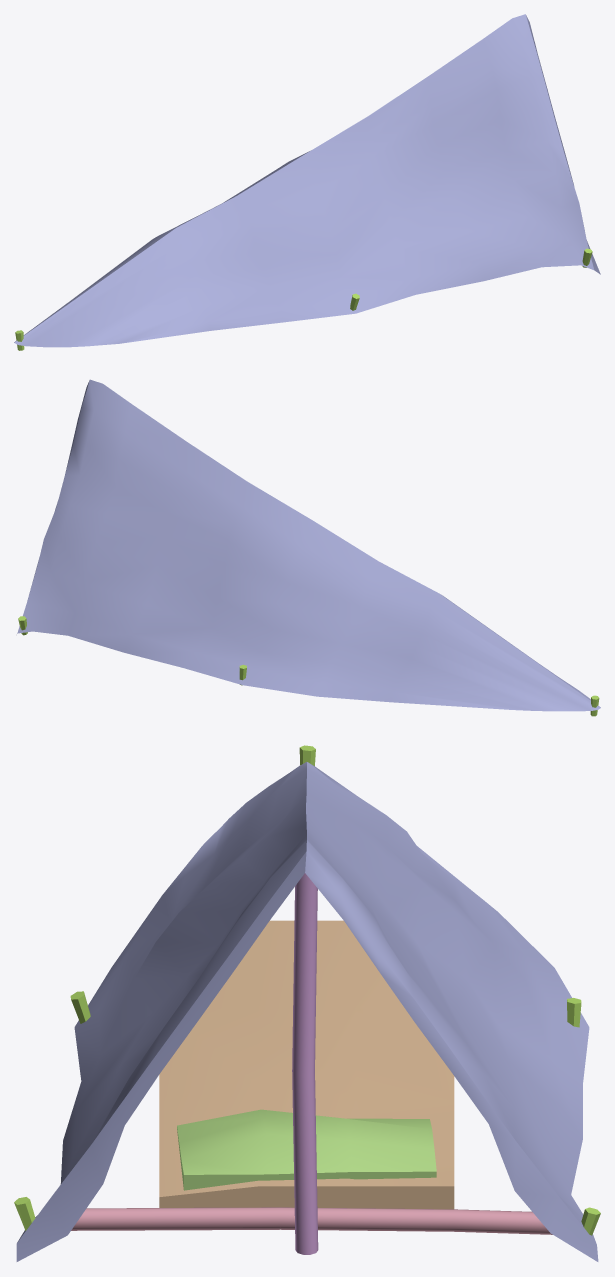
Rendered from Tent2.fbx.
3 renders of one model, top to bottom at view 1: azimuth 30°, elevation 25°; view 2: azimuth 150°, elevation 25°; view 3: azimuth 270°, elevation 25°, orthographic. The views are drawn at different scales.
Parts seen in each view (by area): view 1: Cylinder.158; view 2: Cylinder.158; view 3: Cylinder.158.
Boxes of the visible parts, <box> form: Cylinder.158: <box>14,14,600,350</box>; Cylinder.158: <box>17,379,600,716</box>; Cylinder.158: <box>14,745,600,1261</box>.
Size of the model in its own units: 362 by 143 by 181.
